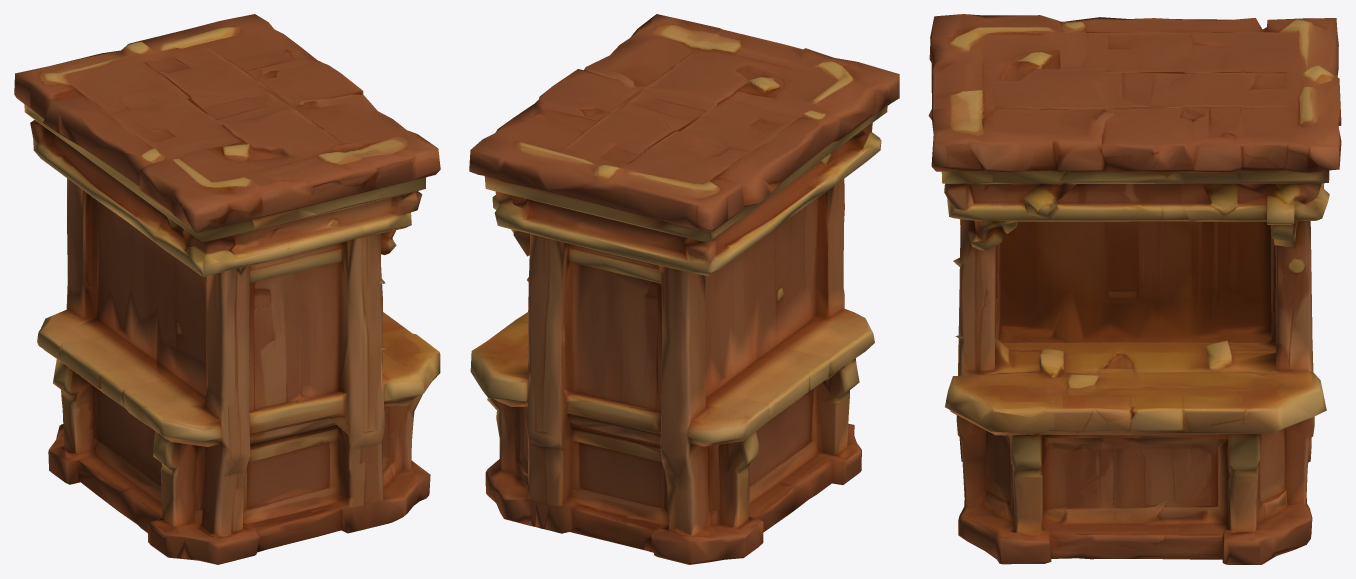
Rendered from bank_booth.glb.
3 renders of one model, left to right at view 1: azimuth 30°, elevation 25°; view 2: azimuth 150°, elevation 25°; view 3: azimuth 270°, elevation 25°, orthographic. The views are drawn at different scales.
Visible parts, largest first — view 1: tripo_node_d4c47917-56ad-4d9e-88c0-cb61516a6c30; view 2: tripo_node_d4c47917-56ad-4d9e-88c0-cb61516a6c30; view 3: tripo_node_d4c47917-56ad-4d9e-88c0-cb61516a6c30.
Boxes of the visible parts, box(x1,y1,x2,y2) form: tripo_node_d4c47917-56ad-4d9e-88c0-cb61516a6c30: box(14, 14, 440, 564); tripo_node_d4c47917-56ad-4d9e-88c0-cb61516a6c30: box(469, 14, 899, 564); tripo_node_d4c47917-56ad-4d9e-88c0-cb61516a6c30: box(928, 14, 1341, 564).
Size of the model in its own units: 0.7657 by 1 by 0.8971.
Materials: 1 (1 with a texture image).
